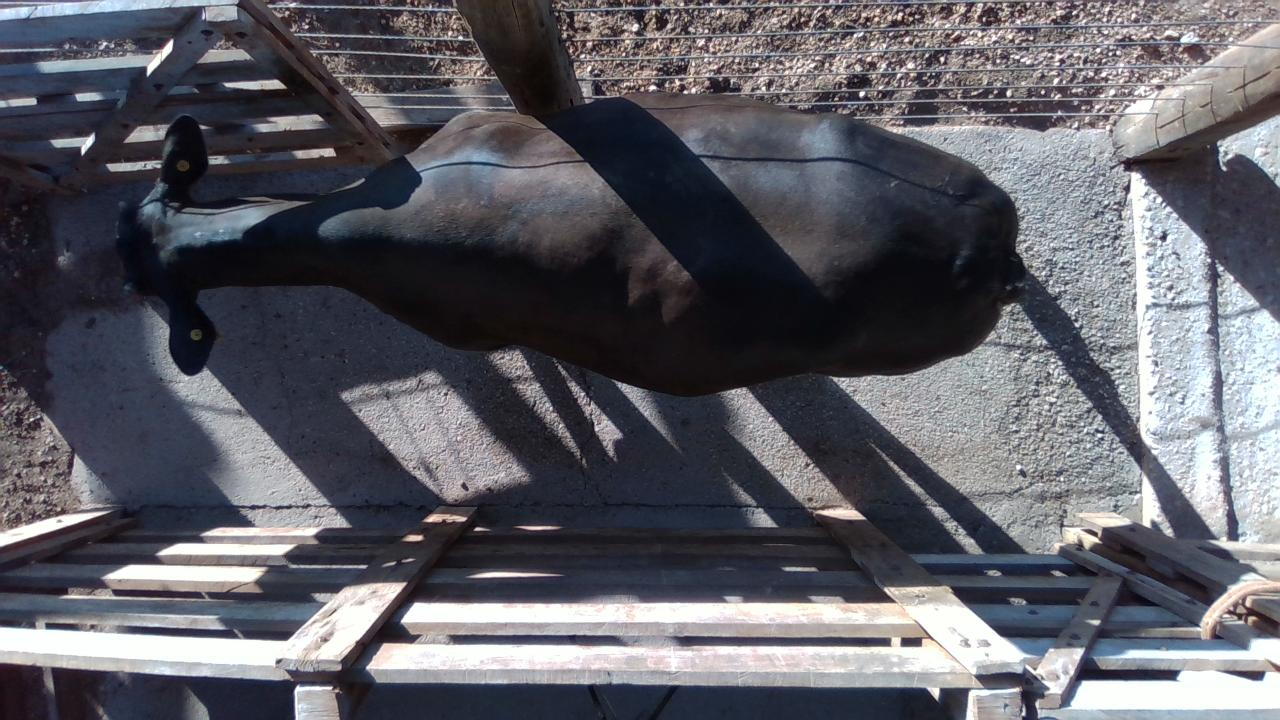cattle: (114, 90, 1028, 398)
